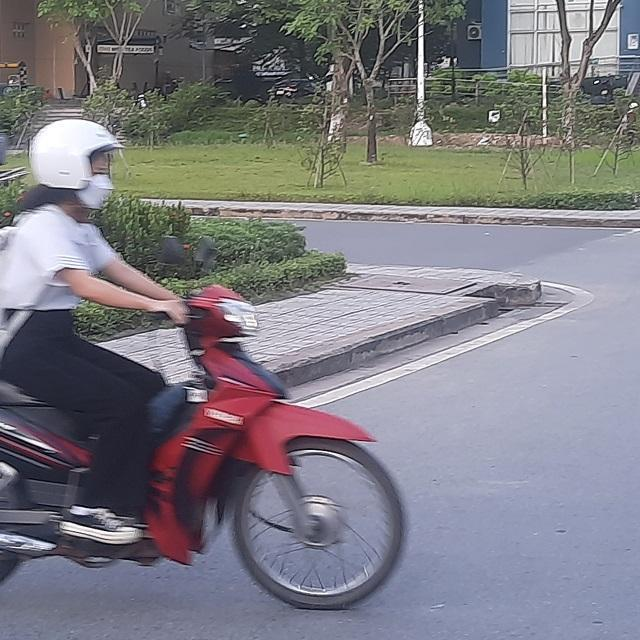Helmet: (27, 118, 124, 206)
